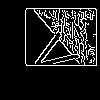V: (25, 25, 90, 79)
